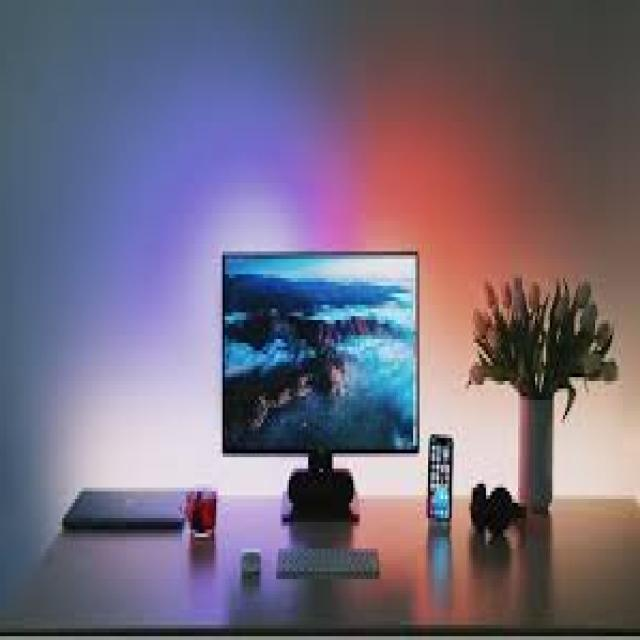monitor: (217, 241, 423, 528)
